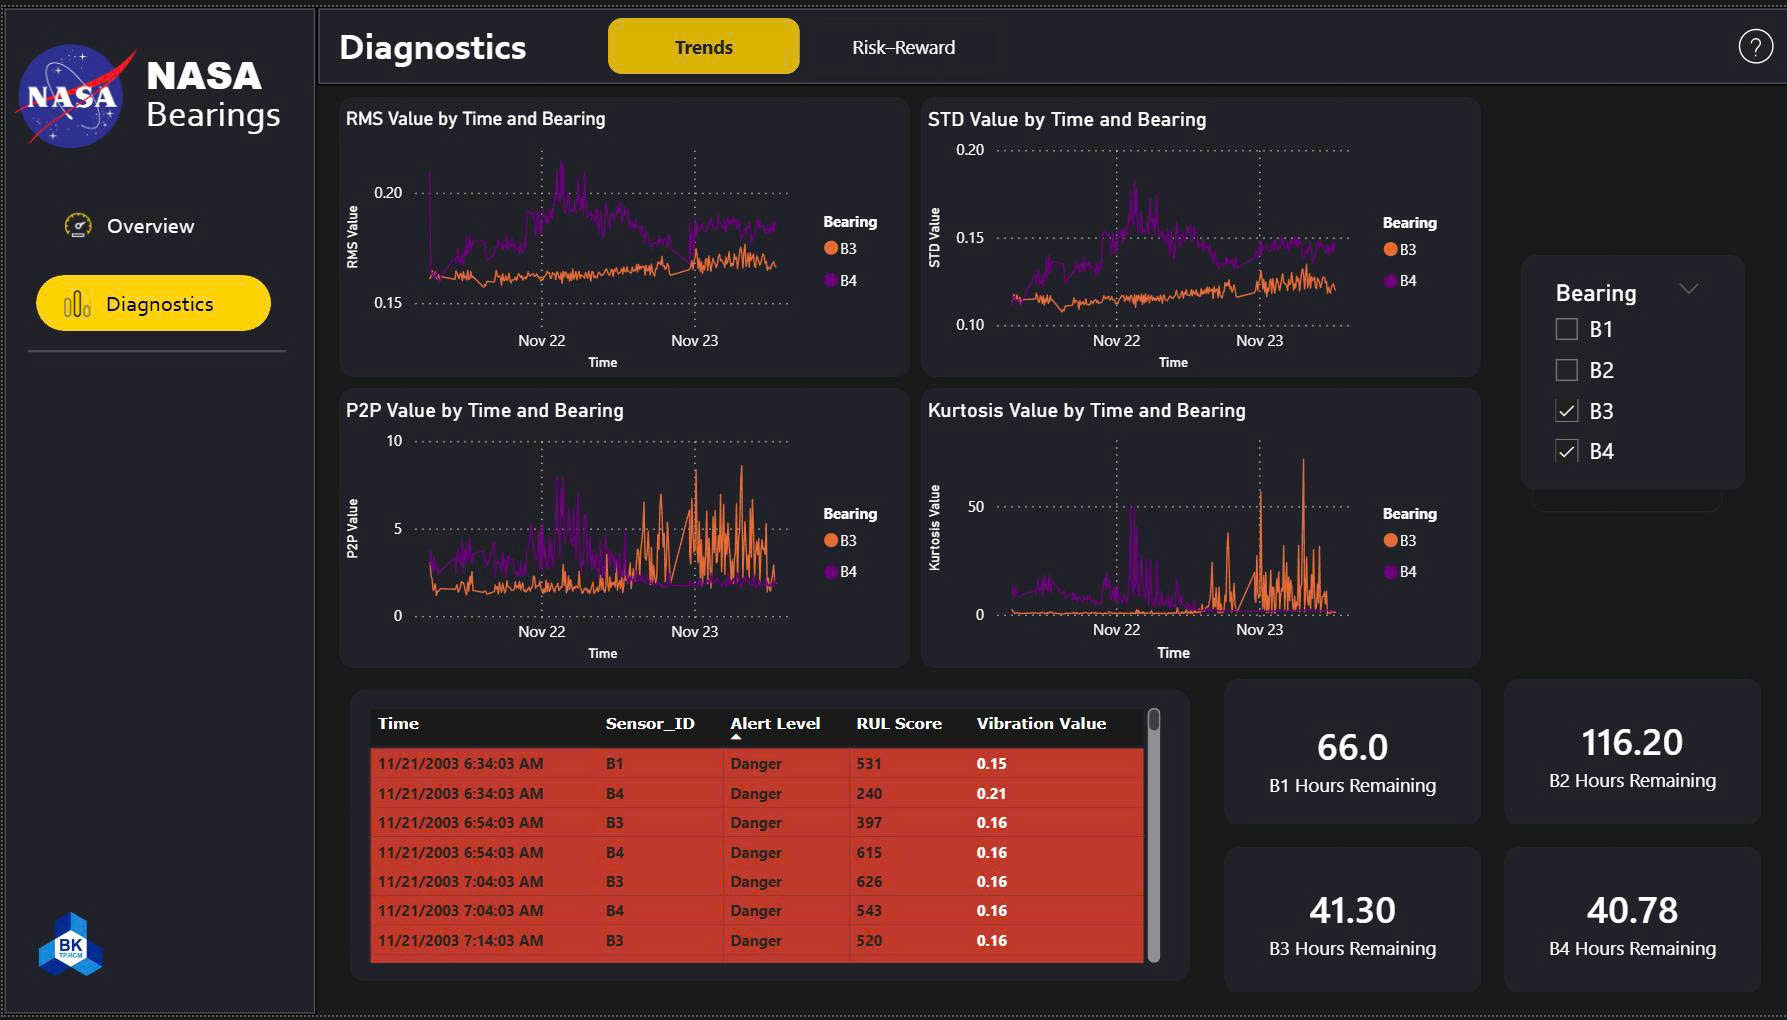

Layout of this report page (visuals, bound fields, positions):
{"tool":"powerbi","page":{"name":"Feature 2","canvas":[1280,720],"ordinal":7},"visuals":[{"type":"shape","box":[597.5,52.5,526.2,305],"z":0},{"type":"shape","box":[597.5,385,526.2,305],"z":1000},{"type":"shape","box":[27.5,385,526.2,305],"z":2000},{"type":"shape","box":[25,52.5,526,305],"z":3000},{"type":"slicer","fields":{"Values":["Vibration_Trends_Long.Bearing_ID"]},"box":[1138.8,293.8,141.2,155],"z":4000},{"type":"lineChart","fields":{"Y":["Vibration_Trends_Long.M_RMS_Avg"],"Series":["Vibration_Trends_Long.Bearing_ID"],"Category":["Vibration_Trends_Long.timestamp"]},"box":[27.5,61.2,518.8,292.5],"z":5000},{"type":"lineChart","fields":{"Y":["Vibration_Trends_Long.M_STD_Avg"],"Series":["Vibration_Trends_Long.Bearing_ID"],"Category":["Vibration_Trends_Long.timestamp"]},"box":[605,61.2,512.5,292.5],"z":6000},{"type":"lineChart","fields":{"Y":["Vibration_Trends_Long.M_Kurtosis_Avg"],"Series":["Vibration_Trends_Long.Bearing_ID"],"Category":["Vibration_Trends_Long.timestamp"]},"box":[31.2,391.2,512.5,292.5],"z":7000},{"type":"lineChart","fields":{"Y":["Vibration_Trends_Long.M_P2P_Avg"],"Series":["Vibration_Trends_Long.Bearing_ID"],"Category":["Vibration_Trends_Long.timestamp"]},"box":[605,391.2,512.5,292.5],"z":8000}]}

Visuals, with their boxes on the page's 1280x720 design canvas (x1, y1, x2, y2). These are canvas units, not pixel positions in the 1787x1020 screenshot, which may show the page scaled, cropped or inside an application window:
shape: (left=598, top=52, right=1124, bottom=358)
shape: (left=598, top=385, right=1124, bottom=690)
shape: (left=28, top=385, right=554, bottom=690)
shape: (left=25, top=52, right=551, bottom=358)
slicer - Vibration_Trends_Long.Bearing_ID: (left=1139, top=294, right=1280, bottom=449)
lineChart - Vibration_Trends_Long.M_RMS_Avg x Vibration_Trends_Long.Bearing_ID: (left=28, top=61, right=546, bottom=354)
lineChart - Vibration_Trends_Long.M_STD_Avg x Vibration_Trends_Long.Bearing_ID: (left=605, top=61, right=1118, bottom=354)
lineChart - Vibration_Trends_Long.M_Kurtosis_Avg x Vibration_Trends_Long.Bearing_ID: (left=31, top=391, right=544, bottom=684)
lineChart - Vibration_Trends_Long.M_P2P_Avg x Vibration_Trends_Long.Bearing_ID: (left=605, top=391, right=1118, bottom=684)
